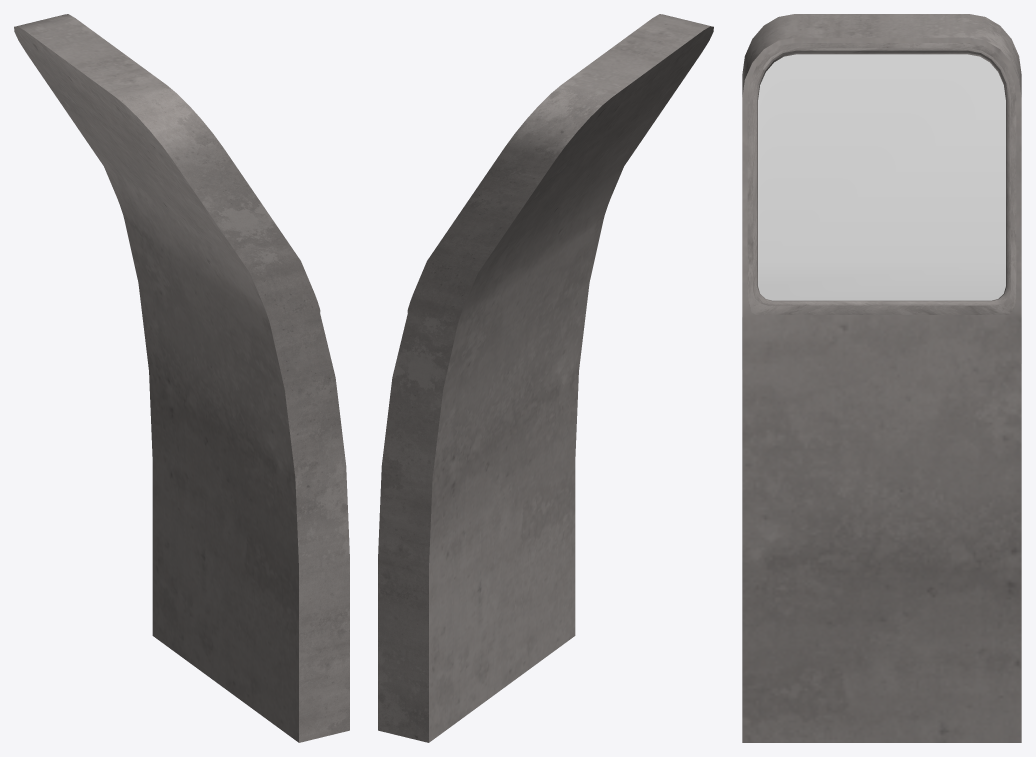
Rendered from Controller.fbx.
3 views of the same model, side by side, from view 1: azimuth 30°, elevation 25°; view 2: azimuth 150°, elevation 25°; view 3: azimuth 270°, elevation 25° (orthographic). The views are drawn at different scales.
Parts seen in each view (by area): view 1: Cube.003; view 2: Cube.003; view 3: Cube.003, Cube.004.
Boxes of the visible parts, x1,y1,x2,y2 form: Cube.003: (14,14,349,742); Cube.003: (378,14,713,742); Cube.003: (742,14,1021,742); Cube.004: (758,54,1005,300).
Size of the model in its own units: 163 by 500 by 200.
